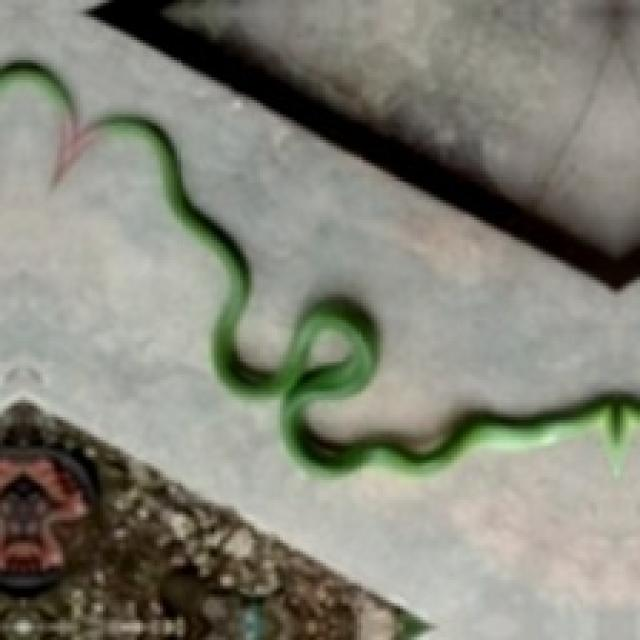red-tailed green ratsnake: (0, 63, 637, 469)
